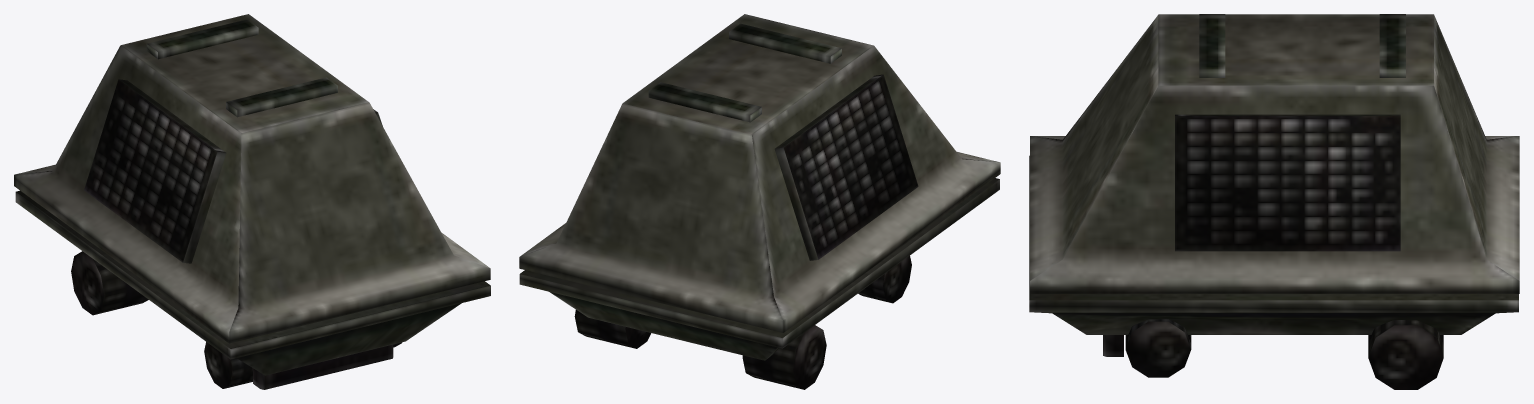
The model's file is mouse.gltf.
The picture shows the model from 3 angles, left to right: view 1: azimuth 30°, elevation 25°; view 2: azimuth 150°, elevation 25°; view 3: azimuth 270°, elevation 25°; orthographic projection. The views are drawn at different scales.
Visible parts, largest first — view 1: Mesh_0; view 2: Mesh_0; view 3: Mesh_0.
Boxes of the visible parts, <box> form: Mesh_0: <box>14,14,490,389</box>; Mesh_0: <box>519,14,1000,389</box>; Mesh_0: <box>1029,14,1519,389</box>.
Size of the model in its own units: 0.2944 by 0.2728 by 0.4201.
1 material, 1 textured.
